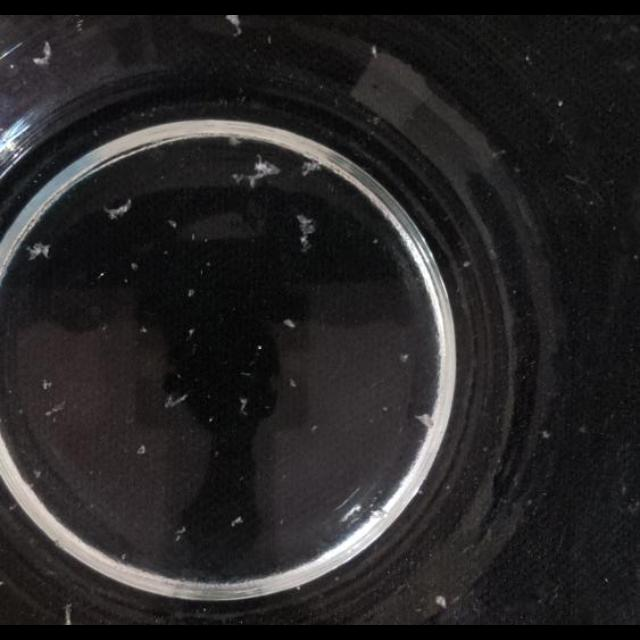Fibre: (232, 156, 282, 190), (296, 214, 316, 250), (103, 197, 133, 220), (33, 42, 53, 66), (26, 243, 52, 261), (44, 399, 66, 418), (165, 392, 189, 408), (302, 159, 322, 177), (225, 15, 242, 35), (416, 412, 434, 430), (174, 527, 186, 541), (239, 398, 249, 414), (231, 516, 243, 528), (370, 46, 378, 56)
microbeads: (436, 594, 446, 608), (282, 319, 296, 329), (42, 378, 52, 389), (399, 353, 409, 363), (136, 445, 146, 455), (167, 220, 177, 230), (188, 288, 196, 298), (187, 328, 195, 338), (289, 378, 297, 388), (542, 429, 550, 438), (96, 272, 105, 280), (310, 424, 318, 432), (131, 262, 139, 270), (140, 325, 148, 333), (556, 100, 564, 108), (463, 259, 471, 267), (121, 552, 127, 562), (382, 404, 388, 412), (208, 416, 214, 424), (525, 55, 531, 63), (257, 344, 263, 352), (372, 238, 378, 245), (192, 232, 196, 240)
